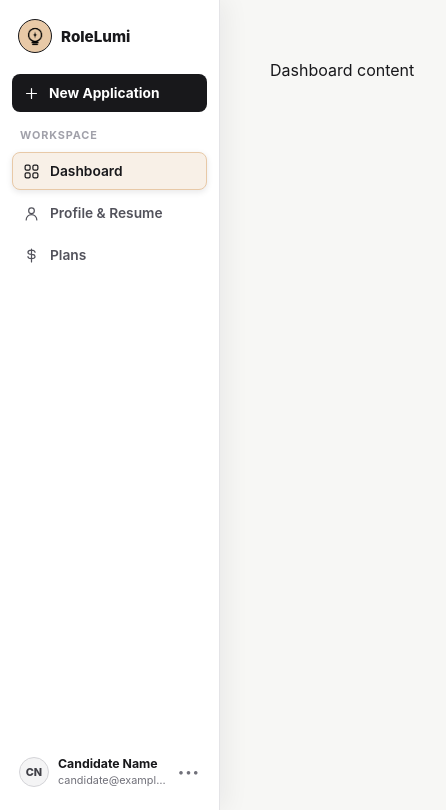
Test: AppLayout sidebar › opens the account menu and logs out a connected account
Click the button with aria-label "Open account menu for Candidate Name" at (110, 772), box [12,747,207,796]
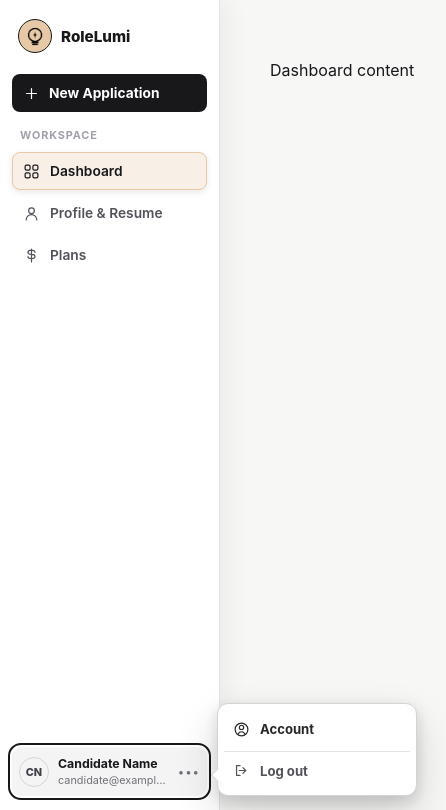
Expected: the navigation bar named "Account menu" is shown, [217,703,417,796]
Expected: the link "Account" is shown, [233,720,314,738]
Click the button "Log out" at (317, 770), box [224,751,410,789]
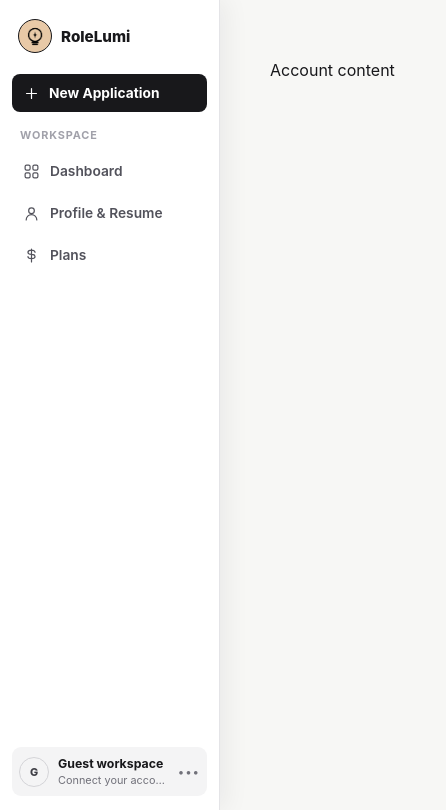
Expected: the text "Account content" is shown, [270,60,395,80]
